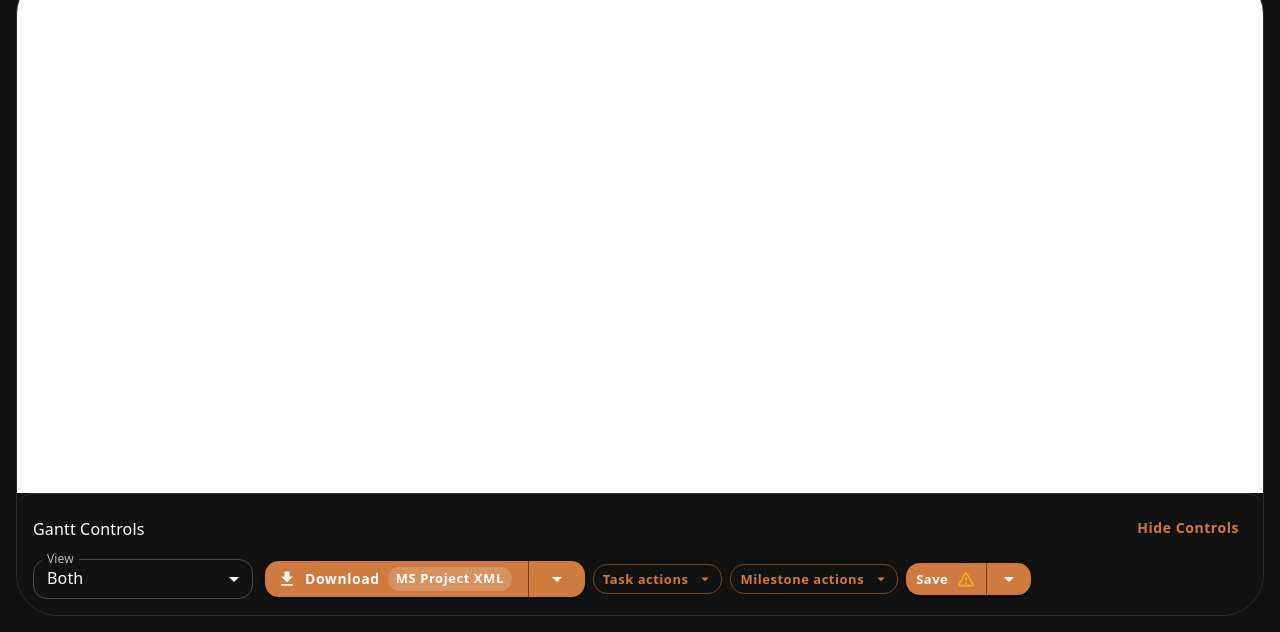
ProjectManagerGanttPage › opens refresh confirmation from the save dropdown and reloads backend state only after confirmation
(page scrolled)
Check: the icon with test id "gantt-save-status-unsaved" is shown, box [956,569,976,589]
Click the button named "Choose save action" at x=1009, y=579, box [987,563,1031,595]
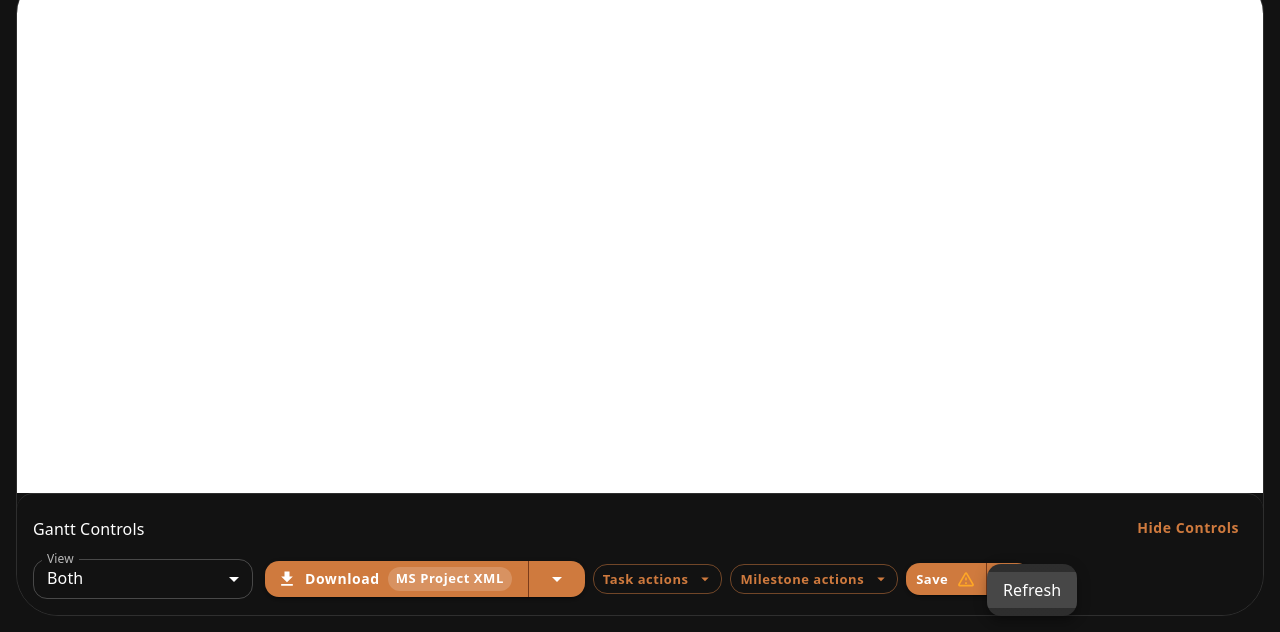
Click the menu item "Refresh" at x=1032, y=590, box [987,572,1077,608]
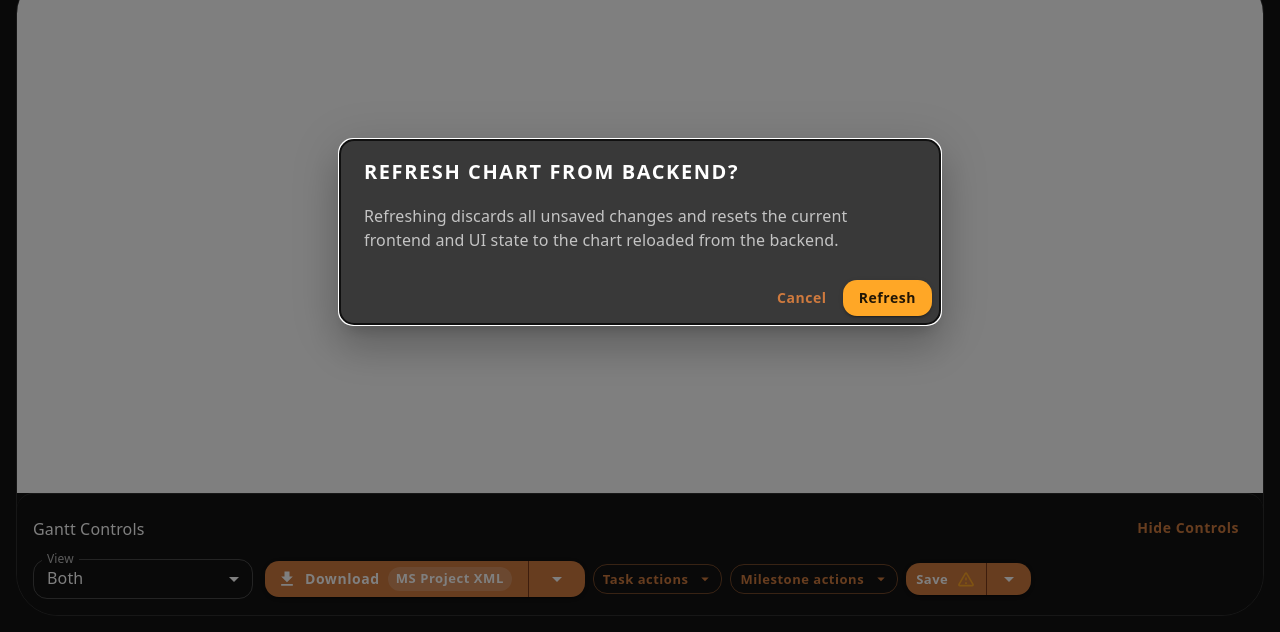
Check: the text "Refreshing discards all unsaved changes and resets the current frontend and UI state to the chart reloaded from the back" is shown, box [364,205,848,251]
Click the button "Refresh" at x=887, y=298, box [843,280,932,316]
(page scrolled)
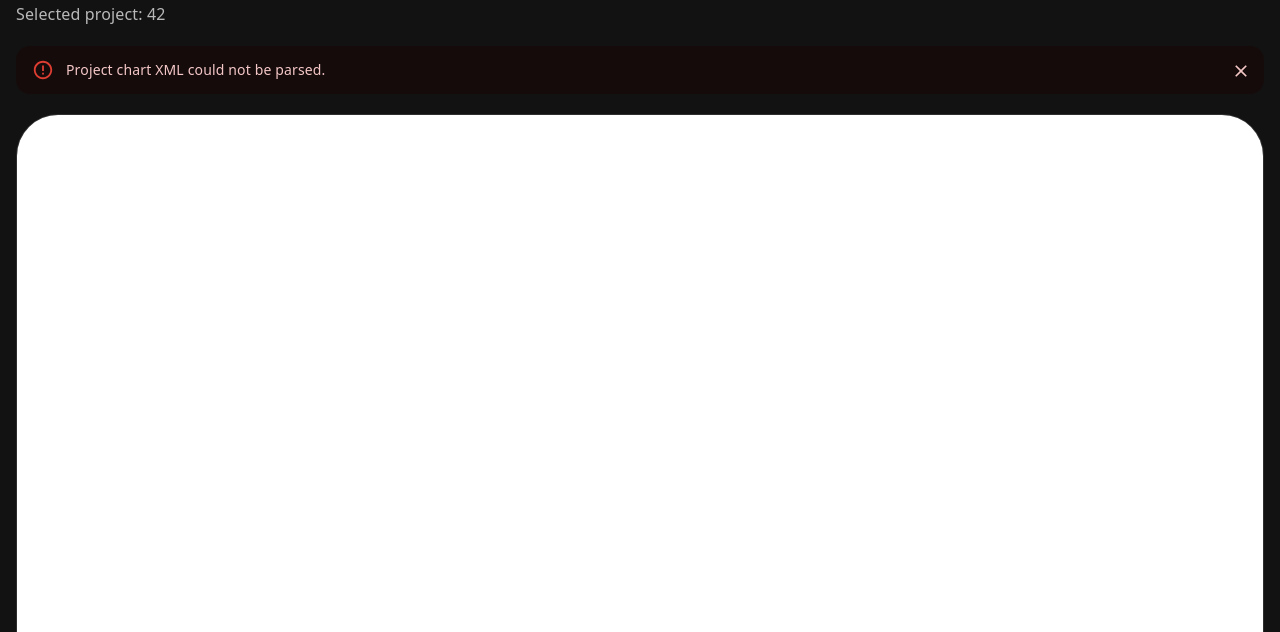
Check: the icon with test id "gantt-save-status-unsaved" is gone
